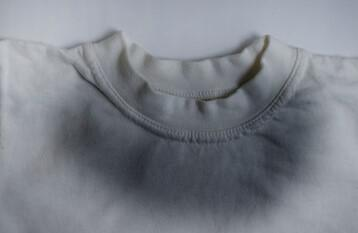gun: (51, 89, 321, 203)
